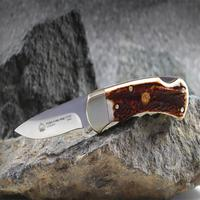knife: (11, 75, 194, 141)
